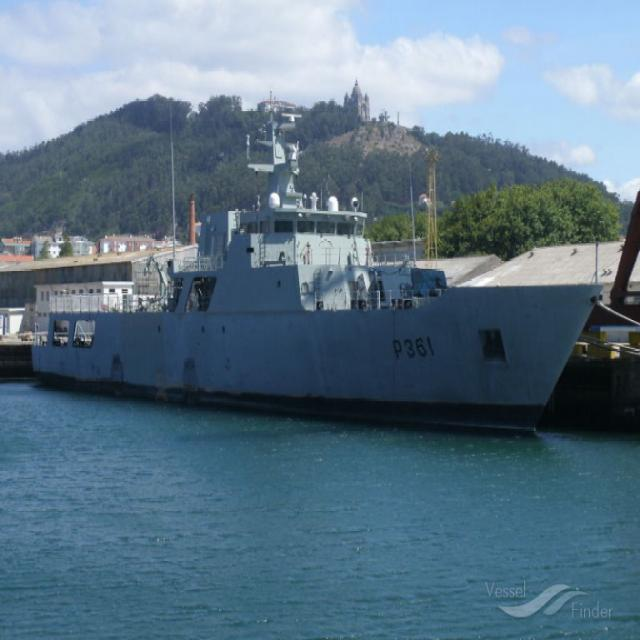OCR: (388, 333, 438, 367)
